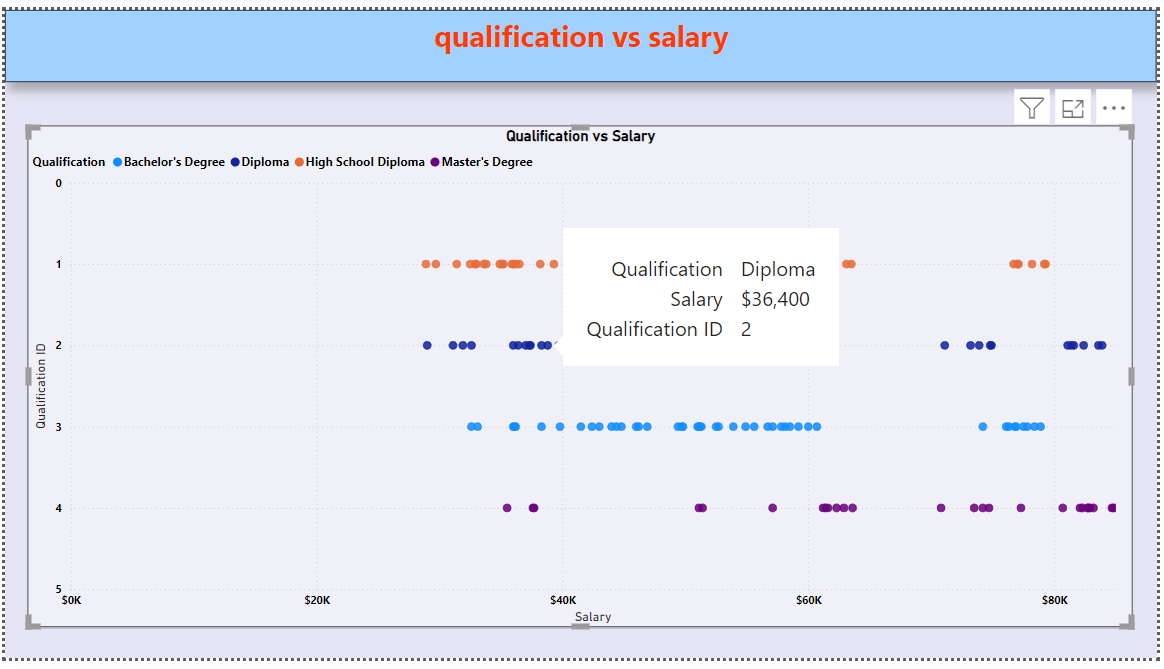

The dashboard page shown, as its layout file describes it:
{"tool":"powerbi","page":{"name":"Q6","canvas":[1280,720],"ordinal":6},"visuals":[{"type":"scatterChart","title":"Qualification vs Salary ","fields":{"X":["staff.Salary"],"Series":["Qual.Qualification"],"Y":["Qual.Qualification ID"]},"box":[25.7,128.7,1228,557.2],"z":0},{"type":"textbox","box":[0,0,1279.5,80.3],"z":1000}]}

Visuals, with their boxes on the page's 1280x720 design canvas (x1, y1, x2, y2). These are canvas units, not pixel positions in the 1164x669 screenshot, which may show the page scaled, cropped or inside an application window:
"Qualification vs Salary " scatterChart: l=26, t=129, r=1254, b=686
textbox: l=0, t=0, r=1280, b=80
